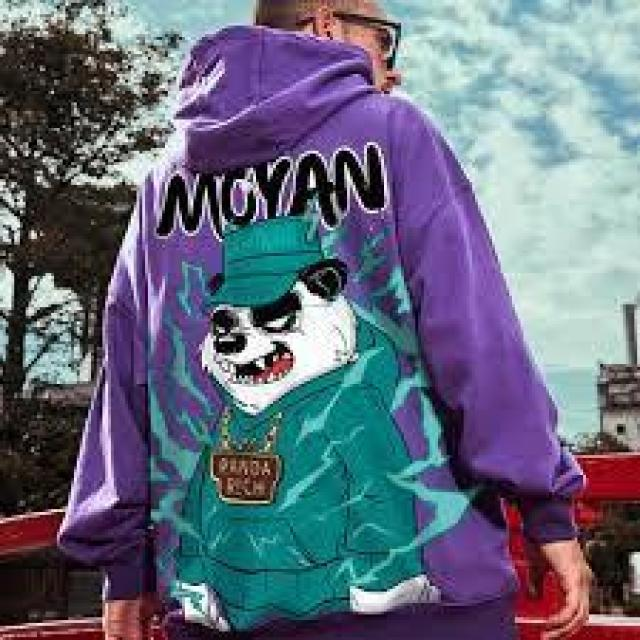sweater: (55, 23, 588, 631)
